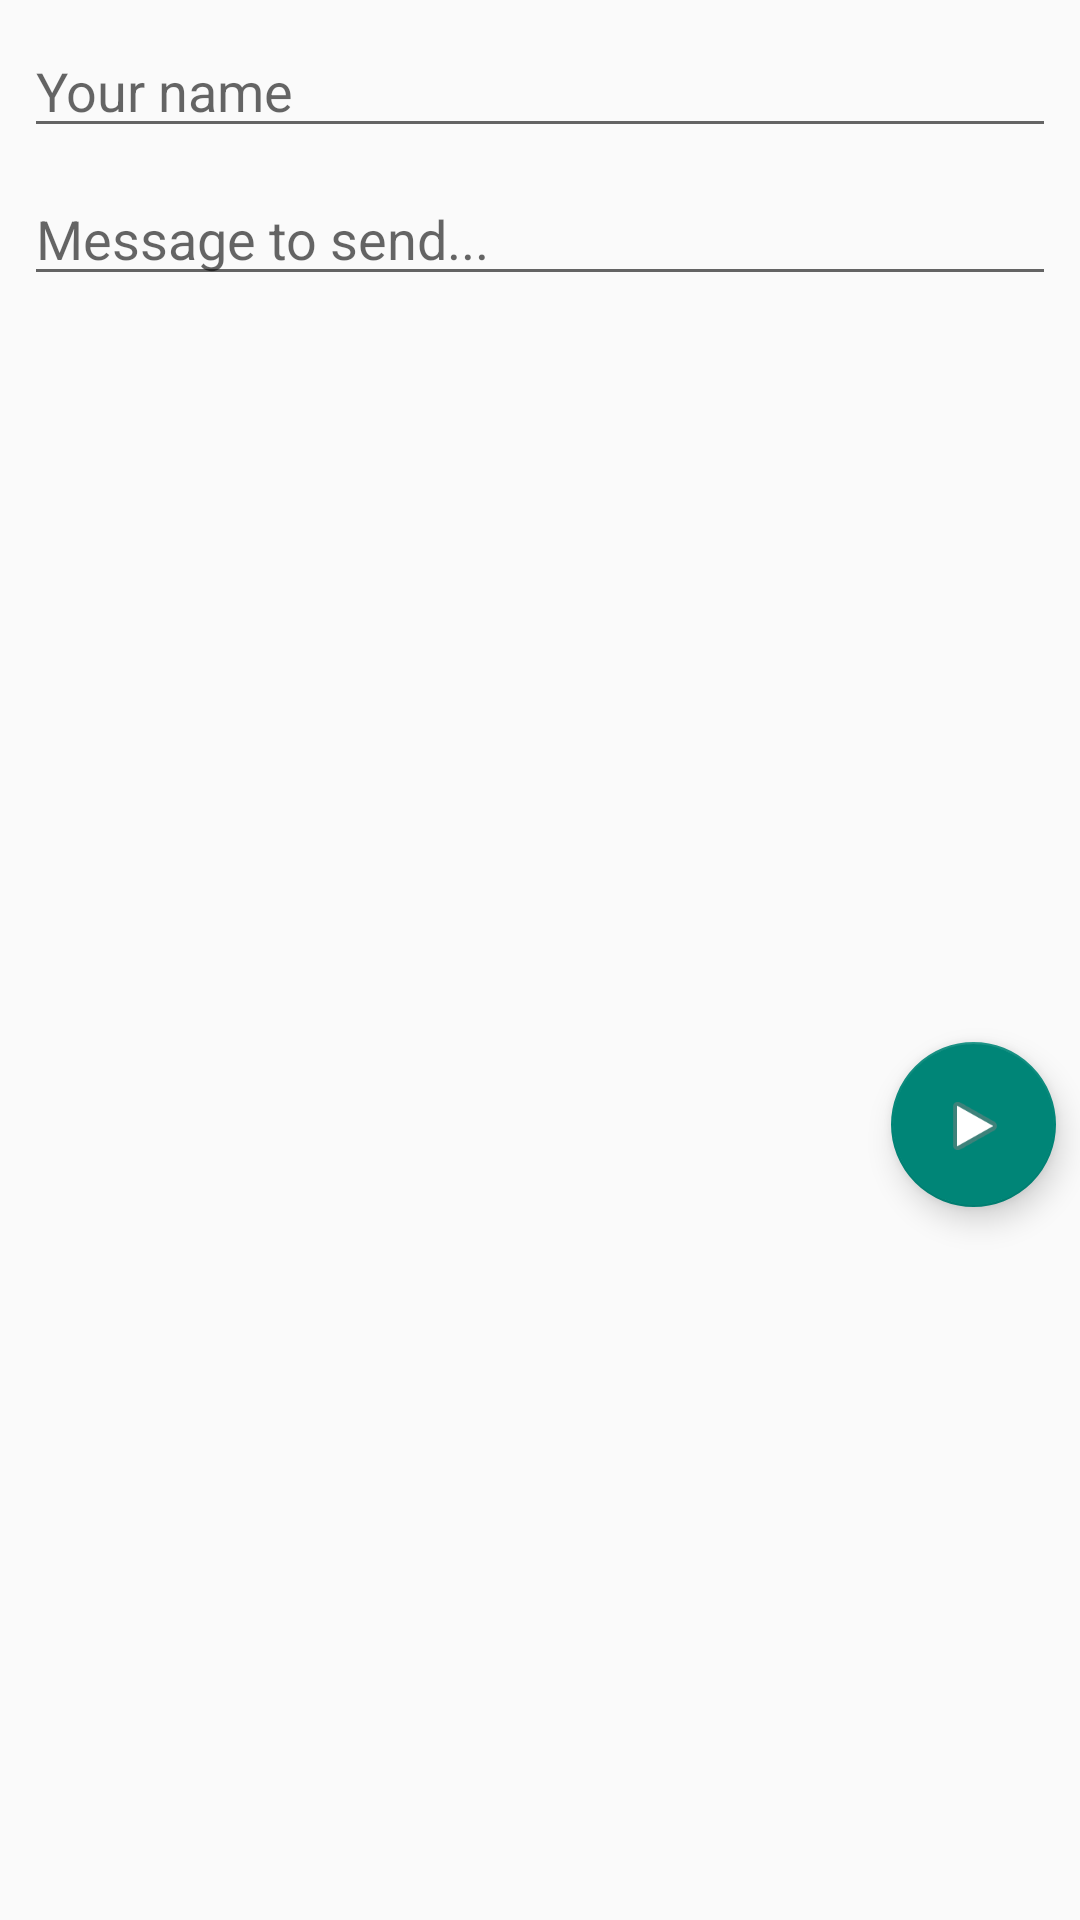

Point at icon controls on the screen. Image size 1080 × 1920, points as (x,y).
play: (973,1124)
